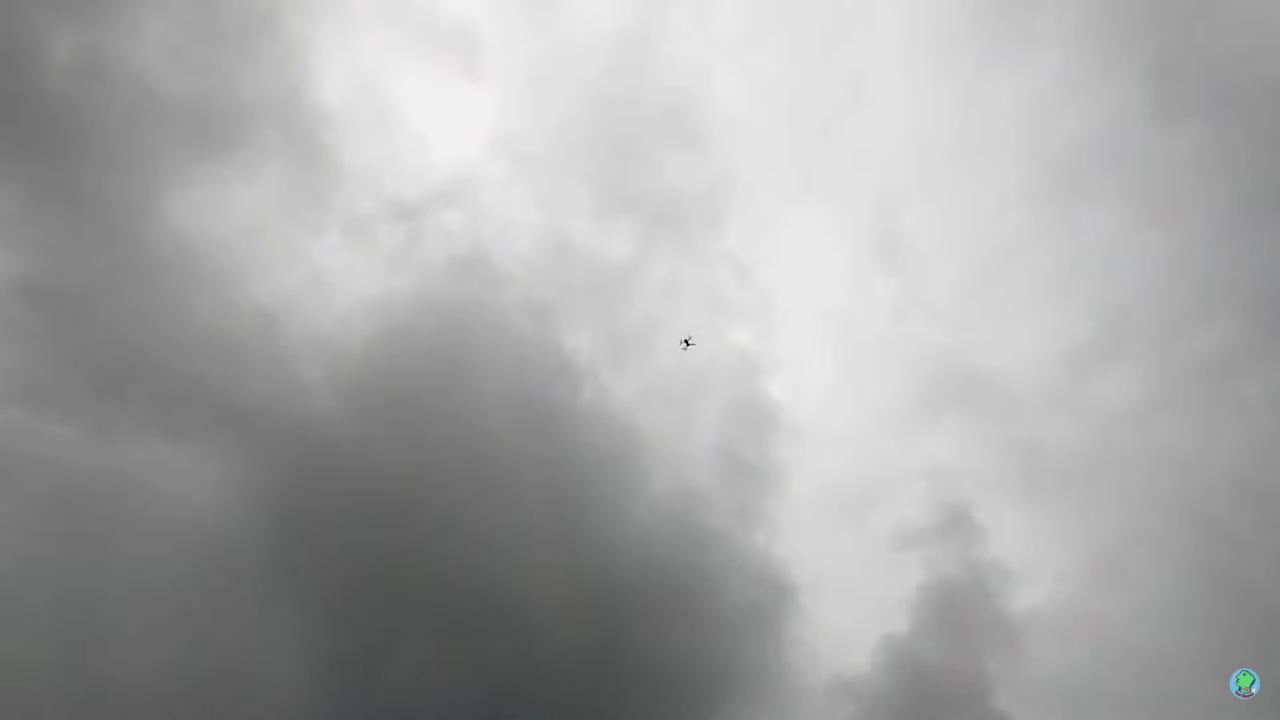Drone: (672, 330, 702, 357)
